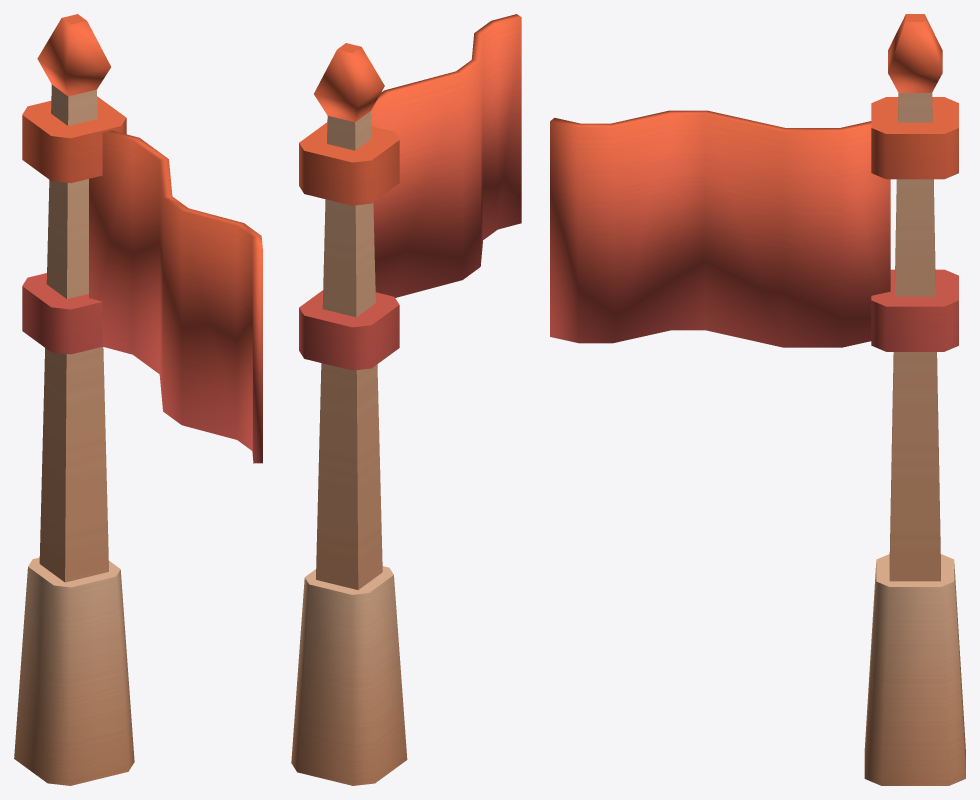
Rendered from flag.fbx.
The picture shows the model from 3 angles, left to right: view 1: azimuth 30°, elevation 25°; view 2: azimuth 150°, elevation 25°; view 3: azimuth 270°, elevation 25°; orthographic projection. The views are drawn at different scales.
Visible parts, largest first — view 1: flag; view 2: flag; view 3: flag.
Boxes of the visible parts, x1,y1,x2,y2 form: flag: (14, 14, 262, 785); flag: (291, 14, 521, 785); flag: (550, 14, 965, 785).
Size of the model in its own units: 0.1064 by 0.4369 by 0.8656.
